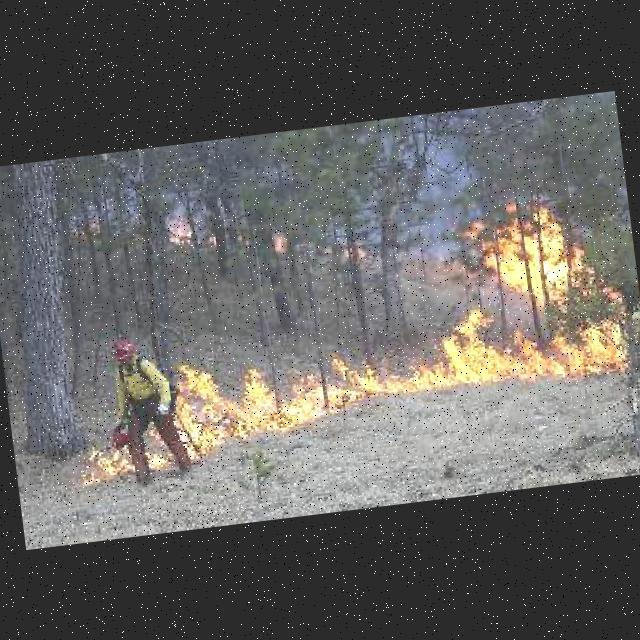Fire: (65, 313, 448, 489), (422, 175, 636, 391), (167, 216, 220, 248), (343, 240, 367, 263), (269, 230, 290, 256)
